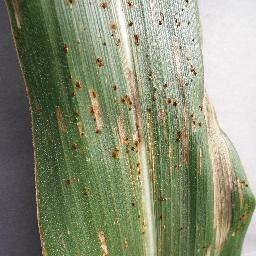Gray_Leaf_Spot: (200, 80, 256, 256), (95, 5, 206, 80), (163, 79, 199, 168), (120, 81, 163, 145), (26, 150, 48, 256), (7, 33, 29, 98), (126, 163, 163, 195), (86, 84, 107, 134), (154, 195, 171, 251), (24, 98, 42, 150), (111, 147, 160, 164), (0, 0, 25, 31), (130, 198, 149, 231), (55, 101, 68, 138), (94, 231, 111, 256), (74, 109, 87, 139), (68, 74, 82, 101), (58, 40, 73, 54), (112, 82, 121, 96), (81, 188, 92, 199), (62, 0, 77, 8), (123, 236, 131, 250), (69, 144, 79, 155), (79, 22, 89, 33), (63, 176, 72, 186), (164, 242, 165, 243)
